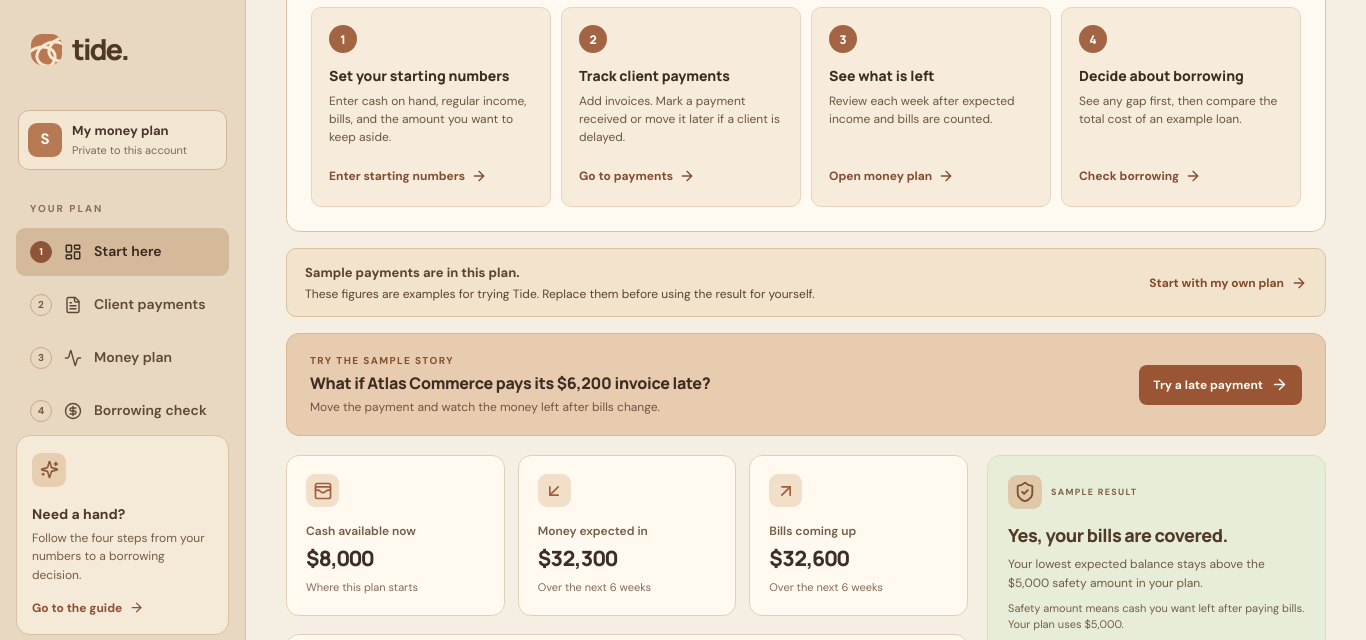
Test: connected dashboard actions › carries a delayed client payment through the forecast into borrowing
The image size is (1366, 640).
(page scrolled)
Click the button "Try a late payment" at (1221, 385), box [1139,365,1302,405]
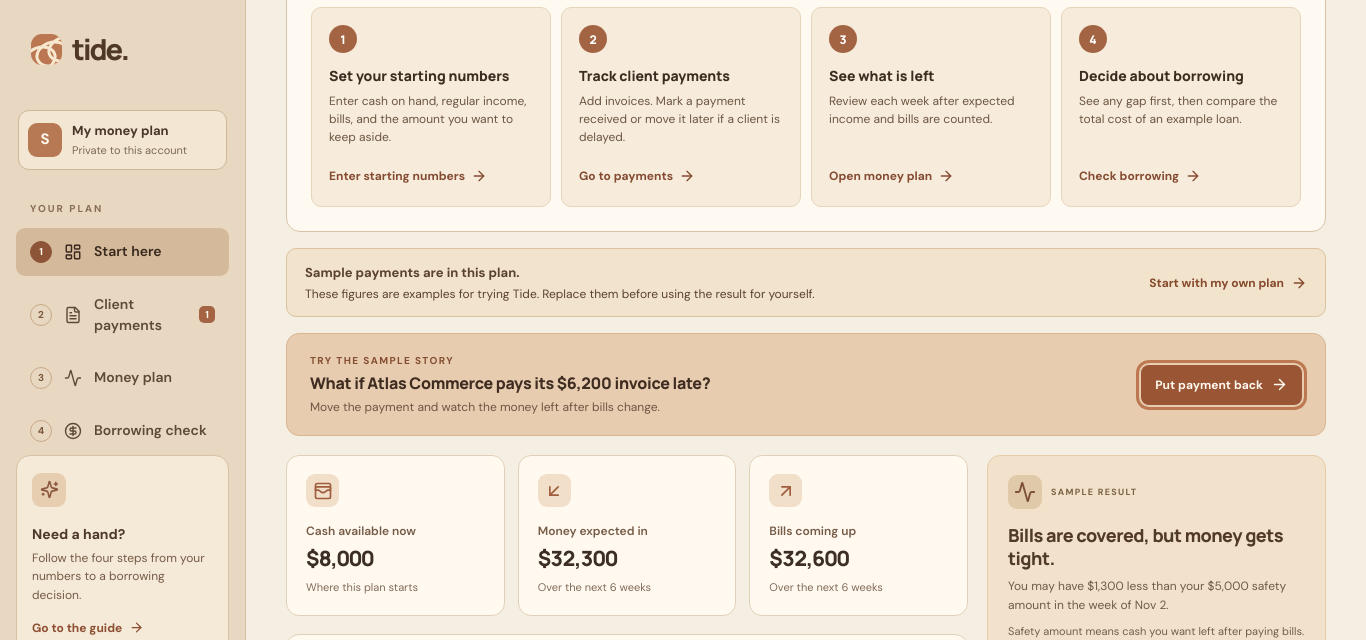
Check: the element with class "status-card" shows "$1,300", box [1008,578,1286,613]
Click the button "4 Borrowing check" at (122, 430), box [16,406,229,454]
(page scrolled)
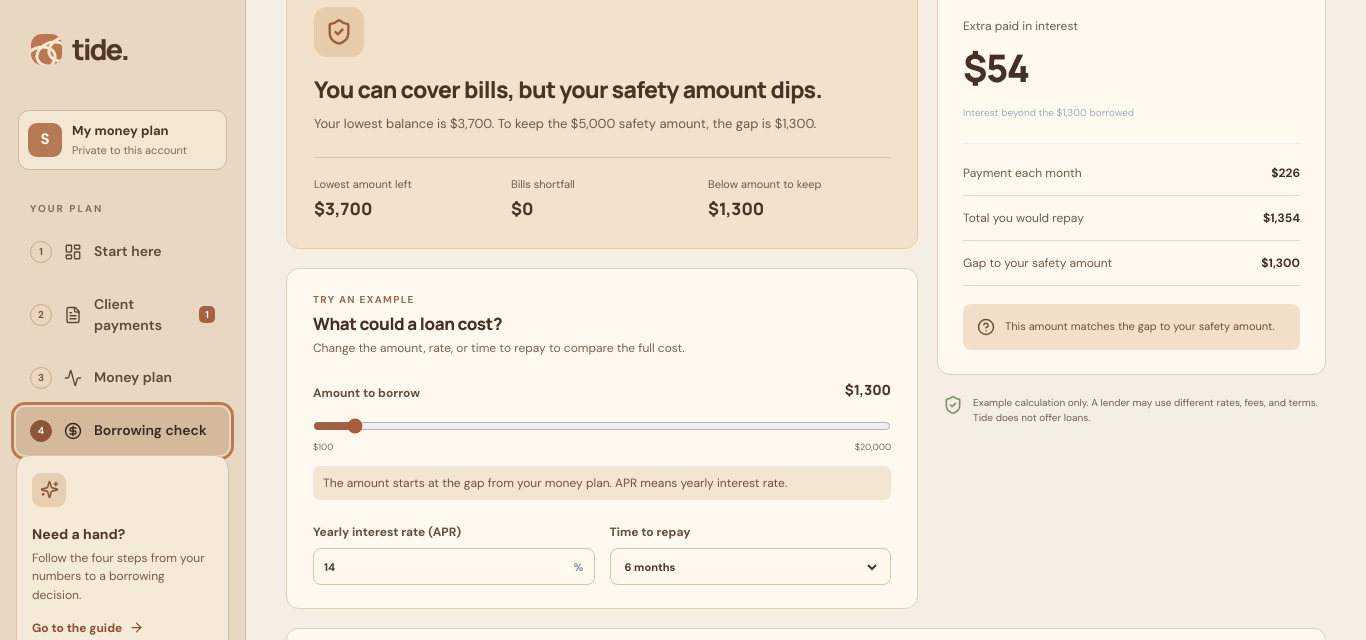
Check: the element with class "decision-stat" shows "$3,700", box [314,197,372,220]
Check: the element with class "decision-stat" shows "$1,300", box [708,197,764,220]
Check: the element with class "loan-card" shows "$1,300", box [845,380,891,399]
